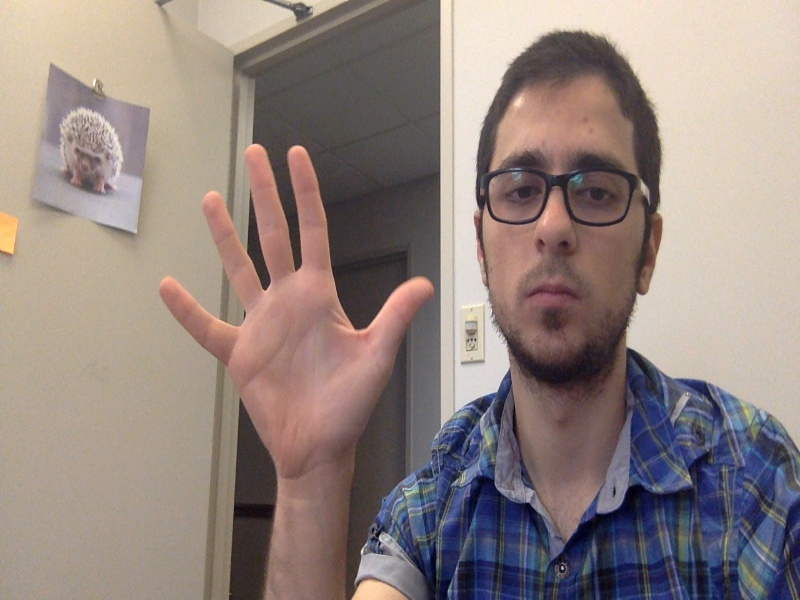5-hand: (156, 141, 431, 486)
